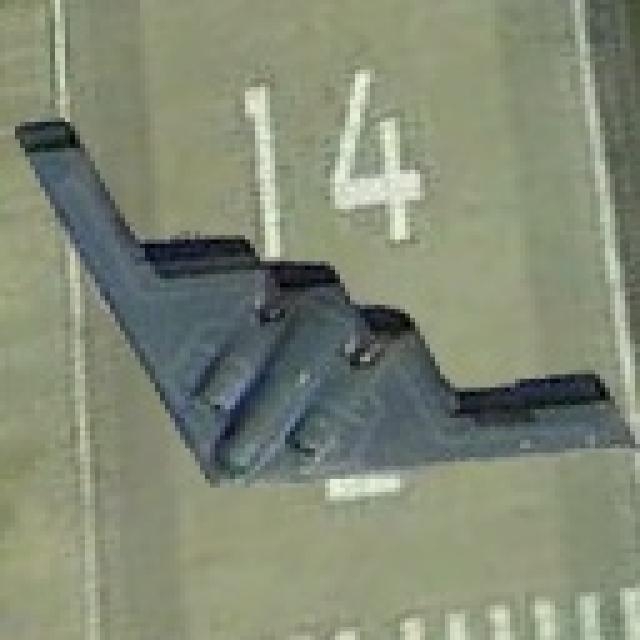B-2_TopDown: (5, 108, 635, 501)
